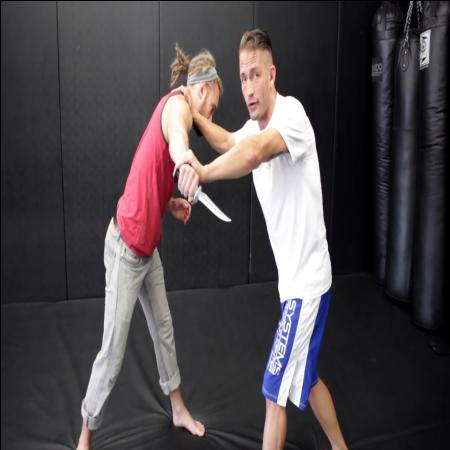long weapon: (172, 164, 233, 232)
